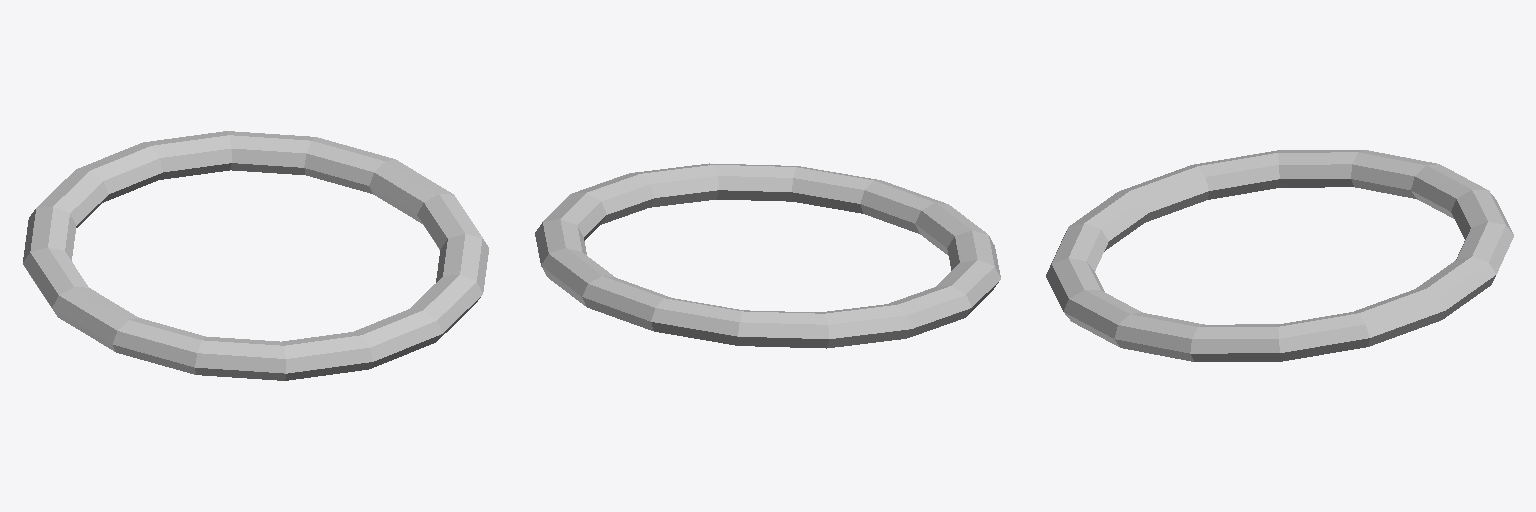
The model's file is halo_angel_basic.sgm.obj.
The picture shows the model from 3 angles: view 1: azimuth 30°, elevation 25°; view 2: azimuth 150°, elevation 25°; view 3: azimuth 270°, elevation 25°; orthographic projection.
Bounding box in the file's own units: 0.38 × 0.0608 × 0.3783.